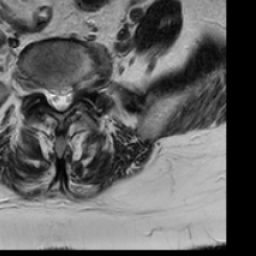CCS_normal: (55, 76, 64, 120)
LFS_stenosis: (75, 69, 86, 99)
LLS_normal: (64, 77, 75, 114)
RFS_stenosis: (37, 72, 45, 103)
RLS_normal: (45, 76, 55, 116)
